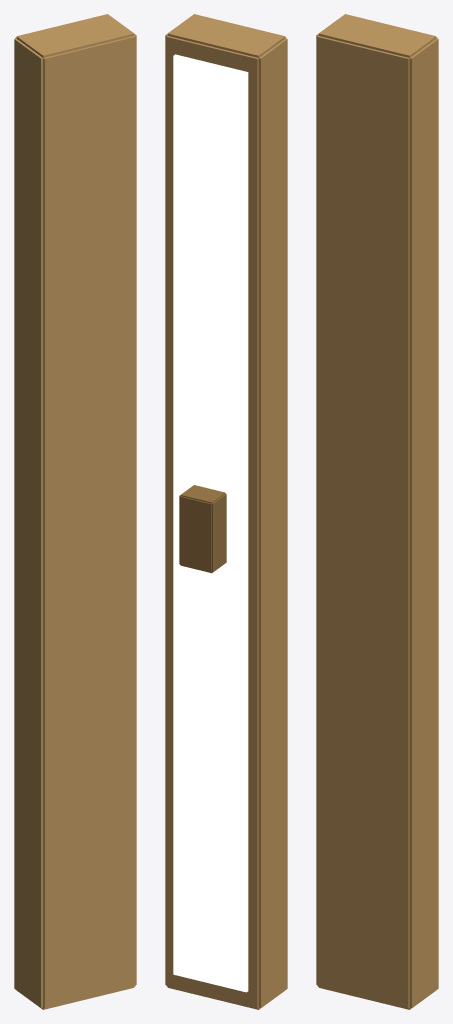
The picture shows the model from 3 angles, left to right: view 1: azimuth 30°, elevation 25°; view 2: azimuth 150°, elevation 25°; view 3: azimuth 330°, elevation 25°; orthographic projection.
Visible parts, largest first — view 1: void-cloud-gk-100; view 2: void-cloud-gk-100; view 3: void-cloud-gk-100.
Part boxes in pixels (box(x1,y1,x2,y2)): void-cloud-gk-100: box(14, 14, 136, 1009); void-cloud-gk-100: box(165, 14, 287, 1009); void-cloud-gk-100: box(316, 14, 438, 1009).
Size of the model in its own units: 0.085 by 0.81 by 0.07.
